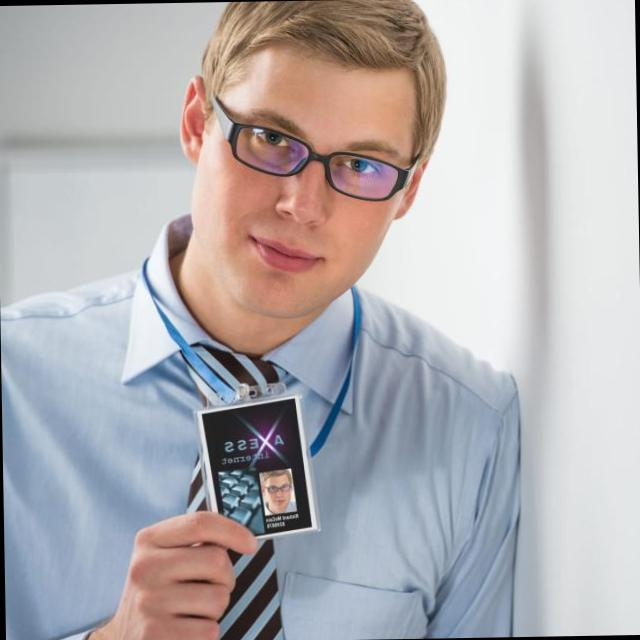id_card: (165, 264, 358, 551)
